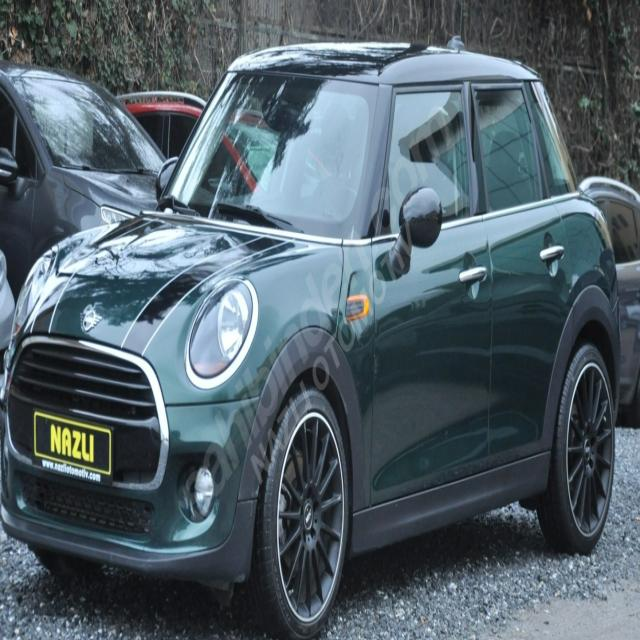mini: (73, 299, 104, 340)
